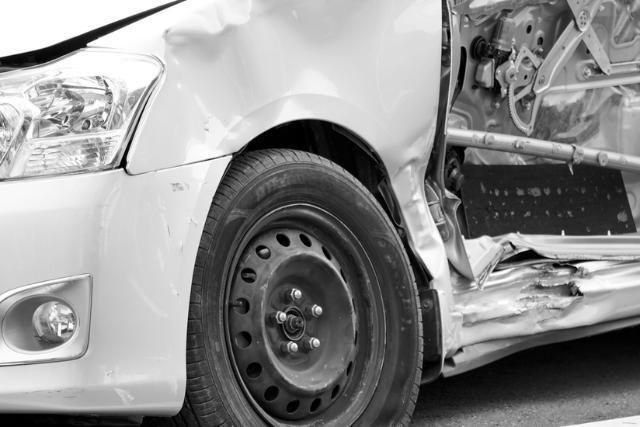Bonnet: (0, 0, 205, 78)
Bumper: (0, 166, 225, 427)
Door: (384, 3, 640, 390)
Fender: (89, 0, 478, 373)
